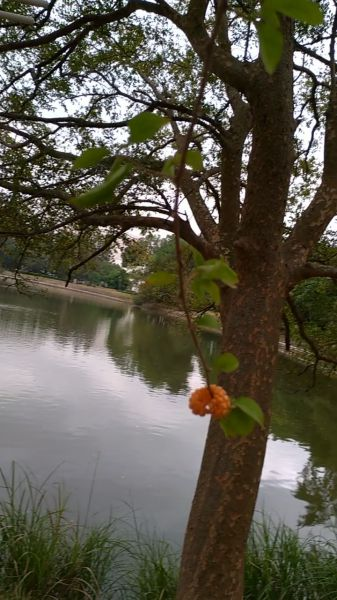eggs: (182, 377, 235, 421)
